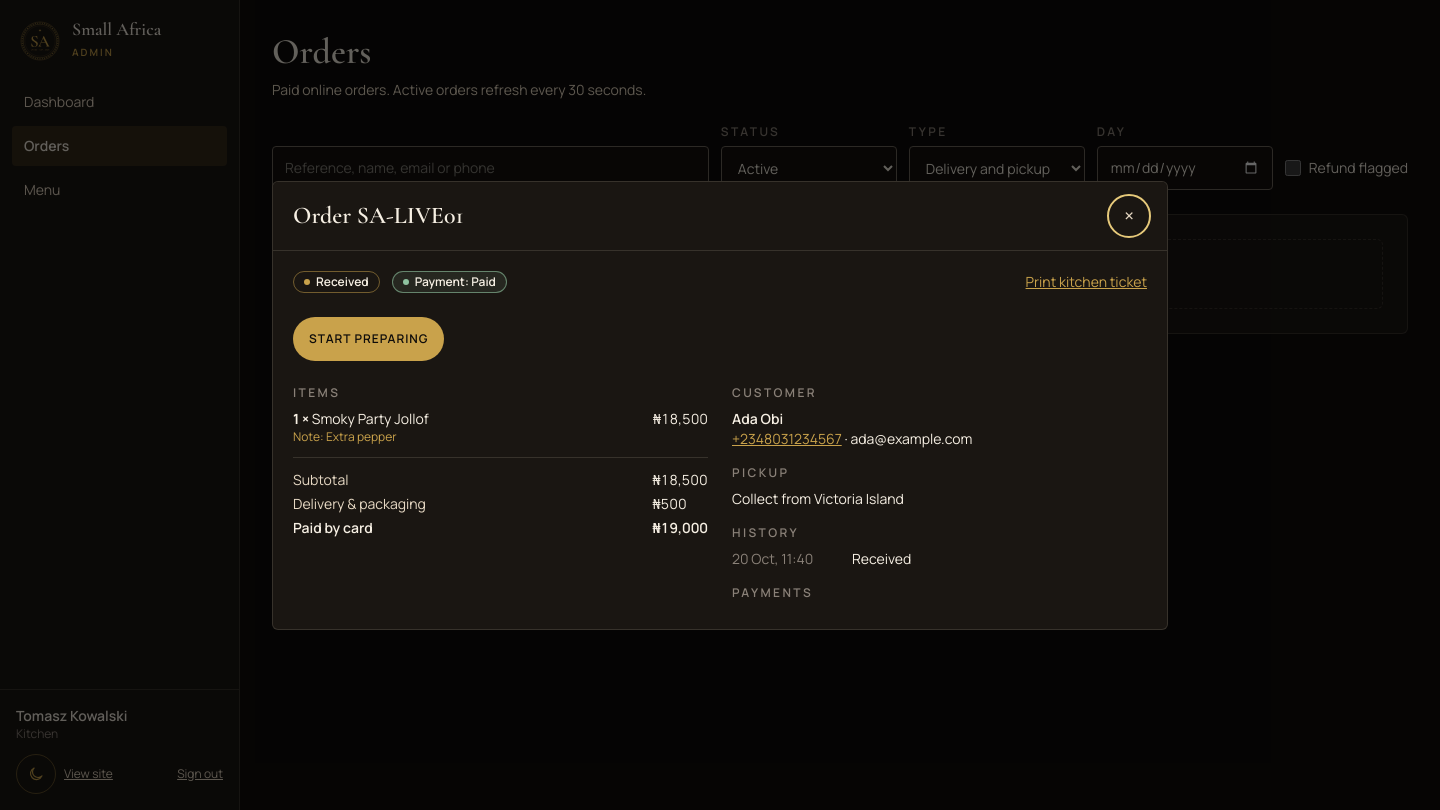
Admin panel › kitchen staff move an order forward from the order view
This screenshot has width=1440, height=810.
Expected: the text "Note: Extra pepper" is shown, [293,428,396,444]
What coordinates should you click on to do the following:
click the button "Start preparing"
I would click on:
 (369, 338)
Its box is [293,316,444,360].
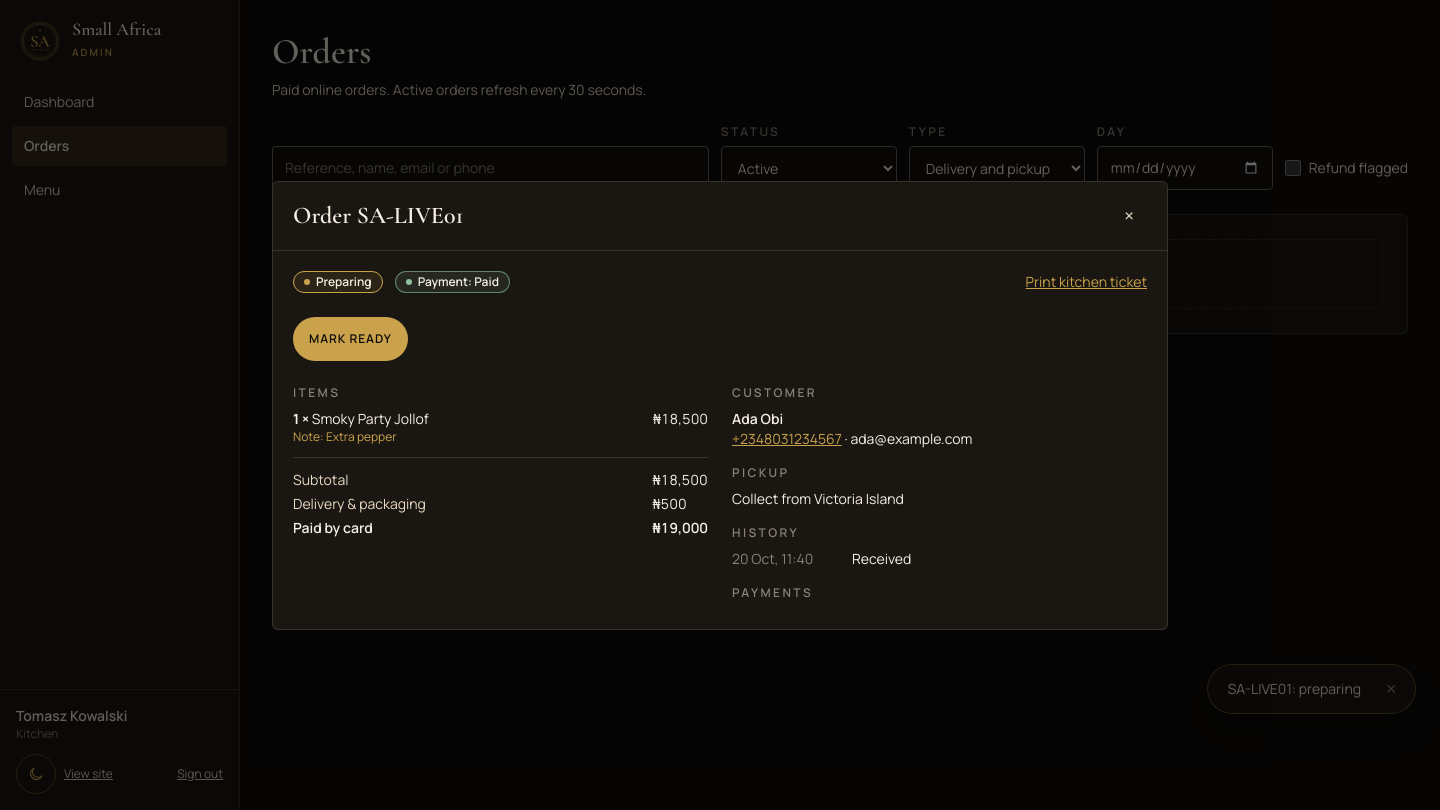
Expected: the button "Mark ready" is shown, [293,316,408,360]
